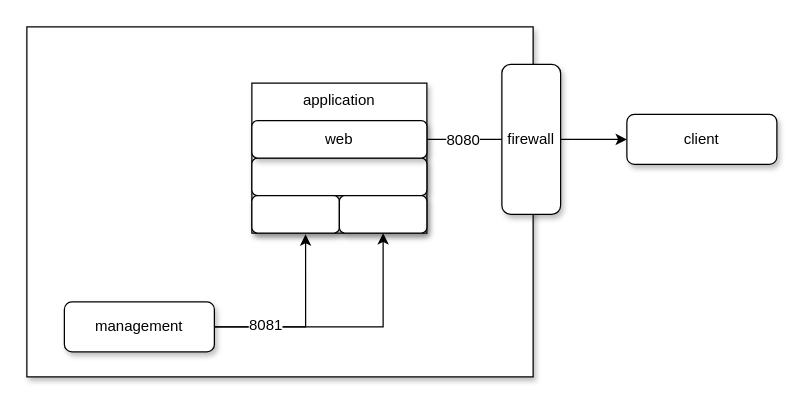
This 806x408 diagram has some shape labels left out. The shapes that lost their labels are listed below. From the top down, each one's centre as x and y in pixels, then its label:
point 340,178: actuators
point 296,215: /health
point 383,215: /livemess
